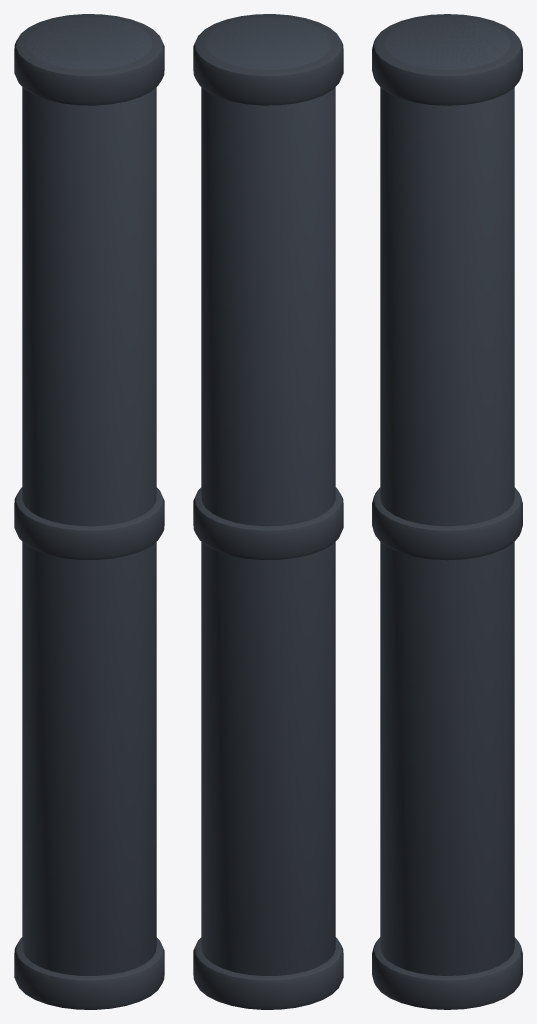
The model's file is tubo_chamine_reto.glb.
3 views of the same model, side by side, from view 1: azimuth 30°, elevation 25°; view 2: azimuth 150°, elevation 25°; view 3: azimuth 270°, elevation 25° (orthographic).
Visible parts, largest first — view 1: tubo_chamine_reto; view 2: tubo_chamine_reto; view 3: tubo_chamine_reto.
Part boxes in pixels (x1,y1,x2,y2): tubo_chamine_reto: (14, 14, 164, 1009); tubo_chamine_reto: (193, 14, 343, 1009); tubo_chamine_reto: (372, 14, 522, 1009).
Bounding box in the file's own units: 0.146 × 1 × 0.146.
1 material, 1 textured.
